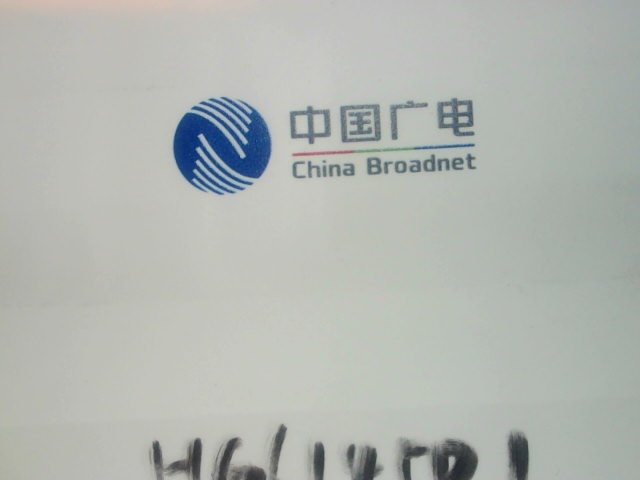AW_ChinaBroadNet: (154, 65, 509, 196)
